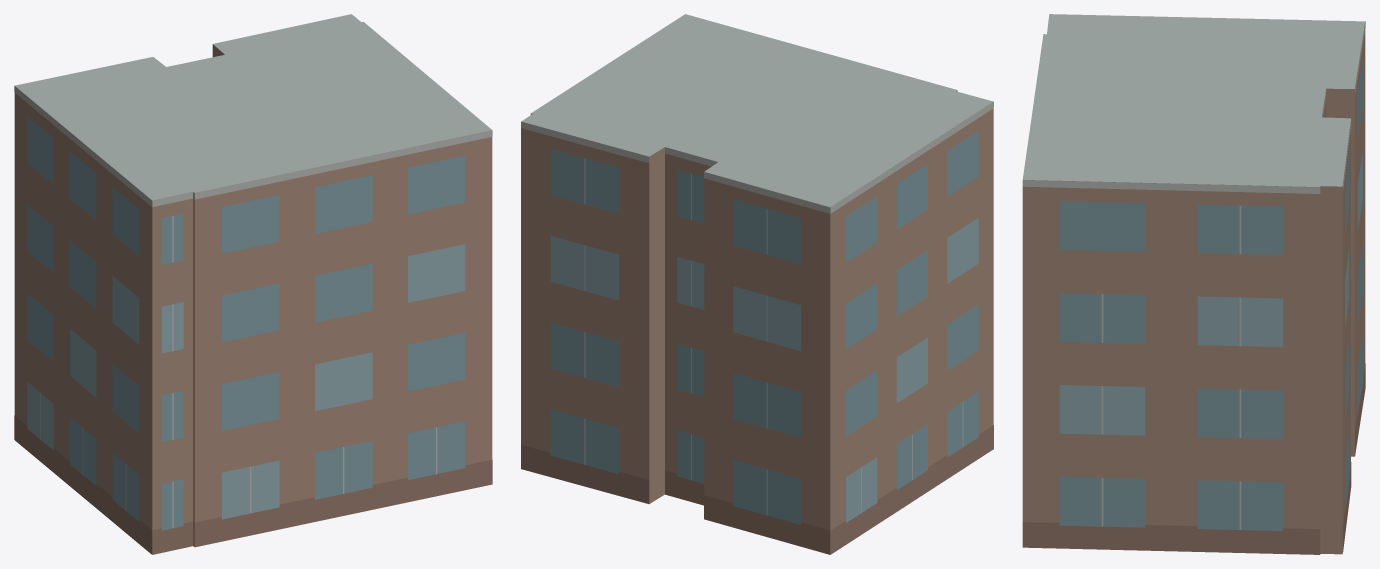
The model's file is survey-upis-32920517.glb.
3 views of the same model, side by side, from view 1: azimuth 30°, elevation 25°; view 2: azimuth 150°, elevation 25°; view 3: azimuth 270°, elevation 25° (orthographic). The views are drawn at different scales.
Parts seen in each view (by area): view 1: survey-upis-32920517.tmp; view 2: survey-upis-32920517.tmp; view 3: survey-upis-32920517.tmp.
Boxes of the visible parts, x1,y1,x2,y2 form: survey-upis-32920517.tmp: (14,14,492,554); survey-upis-32920517.tmp: (521,14,993,554); survey-upis-32920517.tmp: (1022,14,1365,554).
Size of the model in its own units: 13.12 by 12.98 by 10.97.
